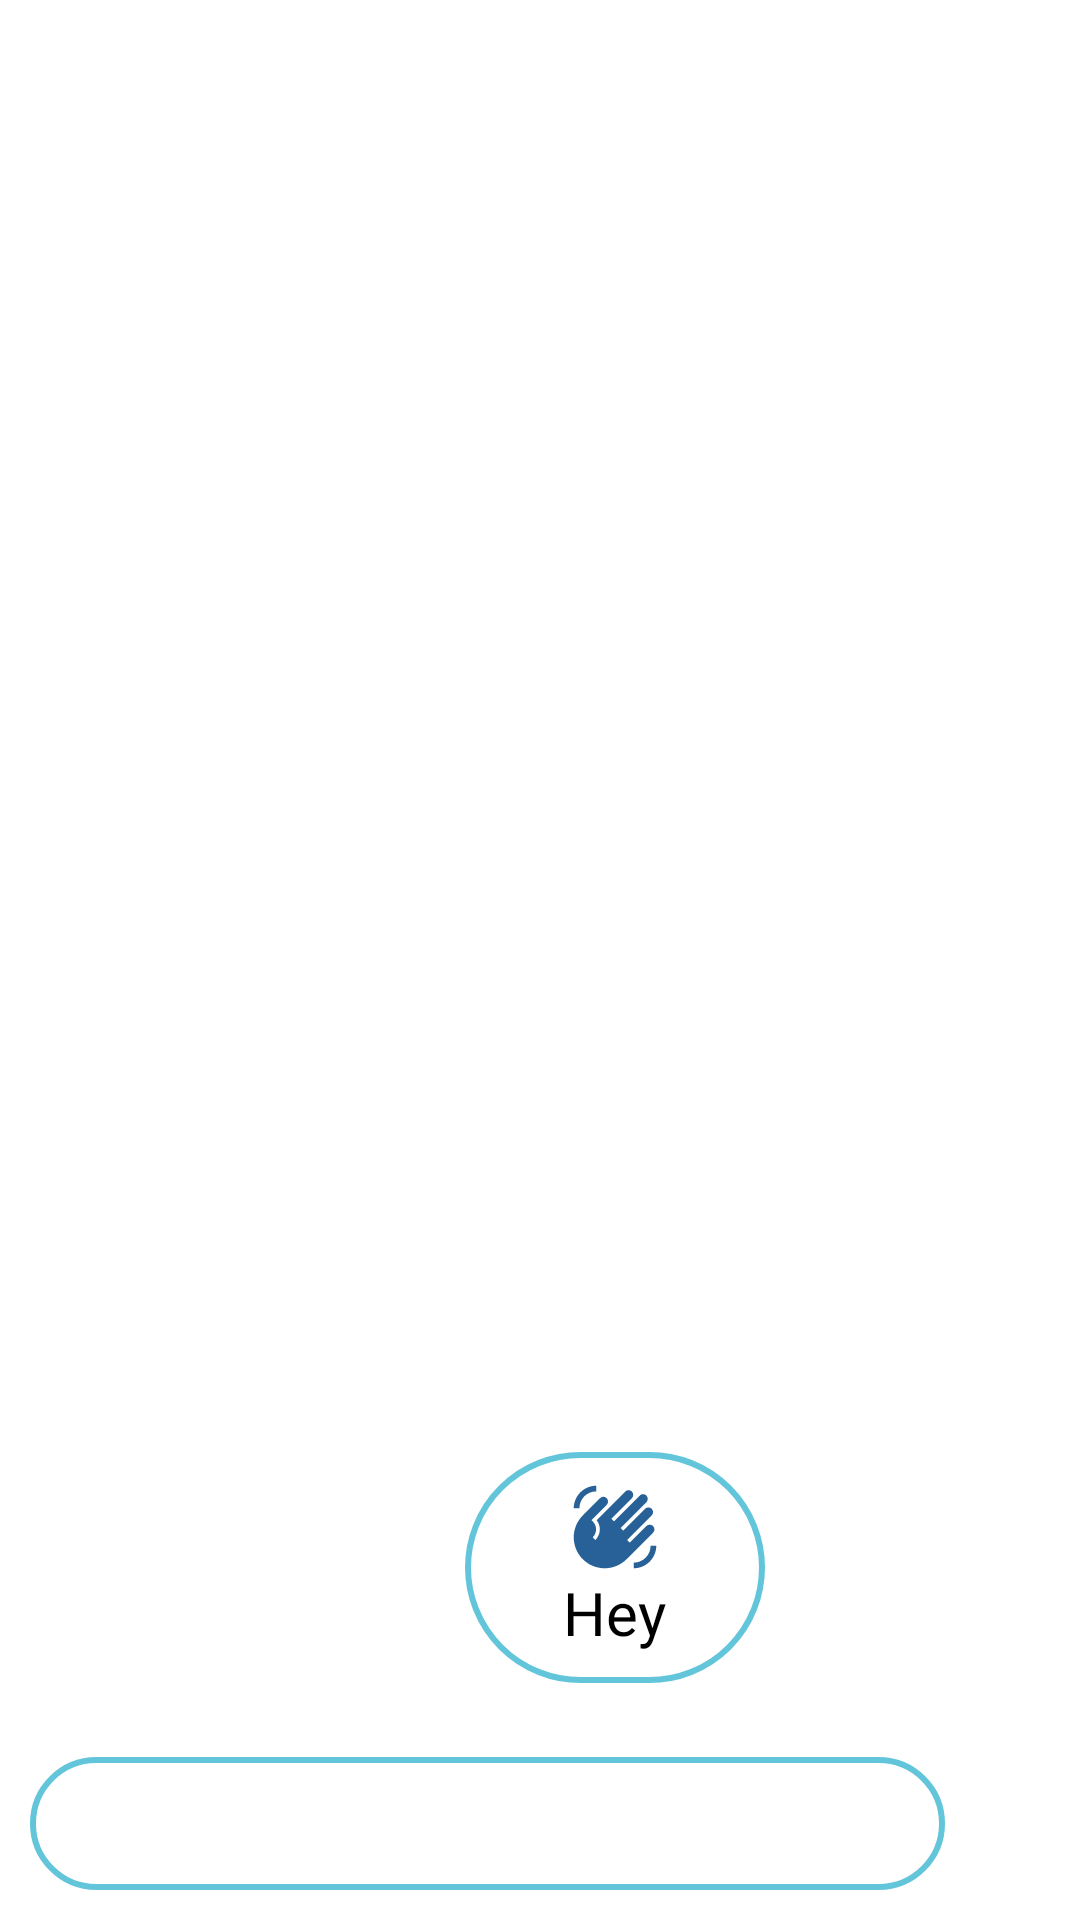

Icons on this 1080 × 1920 Android screen, each with its box as (left=x1, top=y1, right=x2, bottom=y2):
waving hand: (left=573, top=1485, right=657, bottom=1569)
